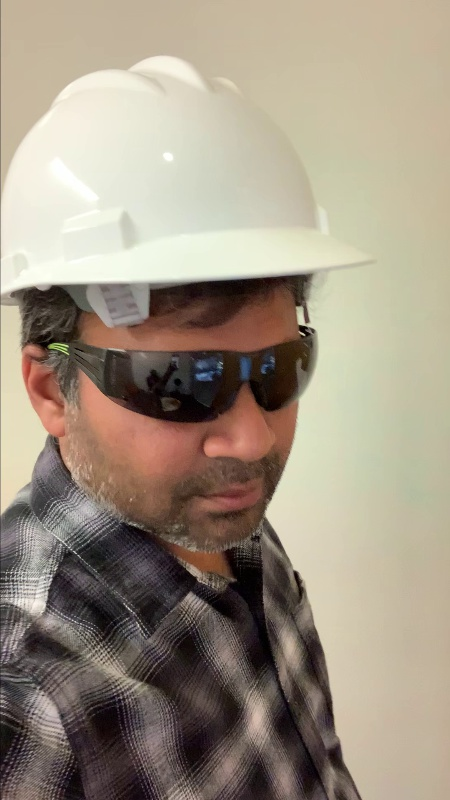glasses: (76, 339, 326, 420)
helmet: (2, 52, 343, 285)
